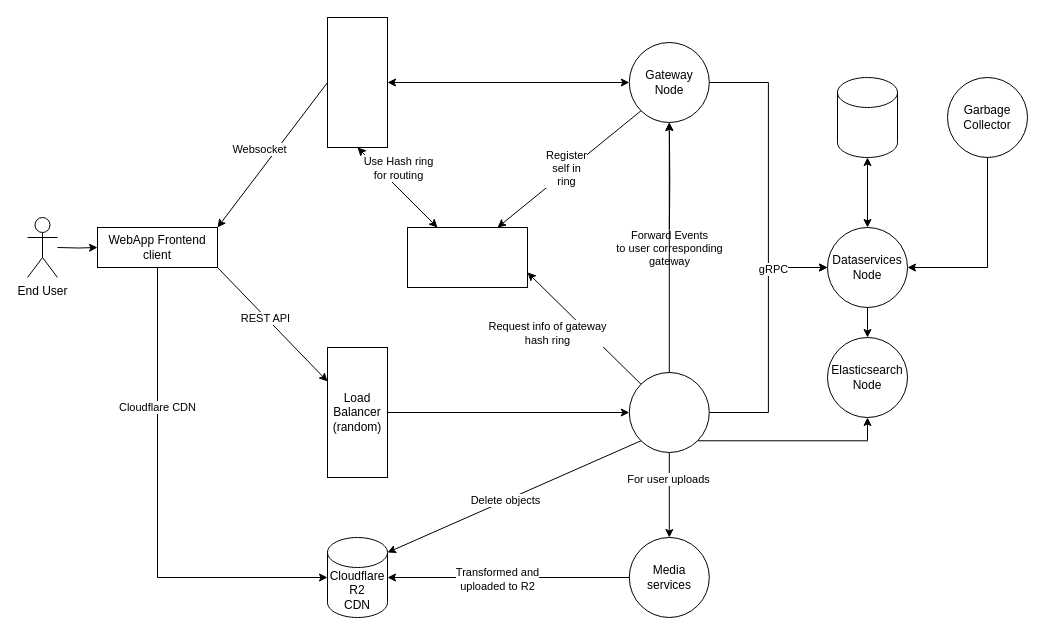
This 1045x635 diagram has some shape labels left out. The shapes that lost their labels are listed below. From the top down, each one's box as (x1, y1, x2, y2) in pixels, then its label:
(326, 16, 388, 148): Load Balancer (hash ring)
(836, 76, 898, 158): ScyllaDB Cluster
(406, 226, 528, 288): Discoverystore
(628, 372, 709, 452): API Node
